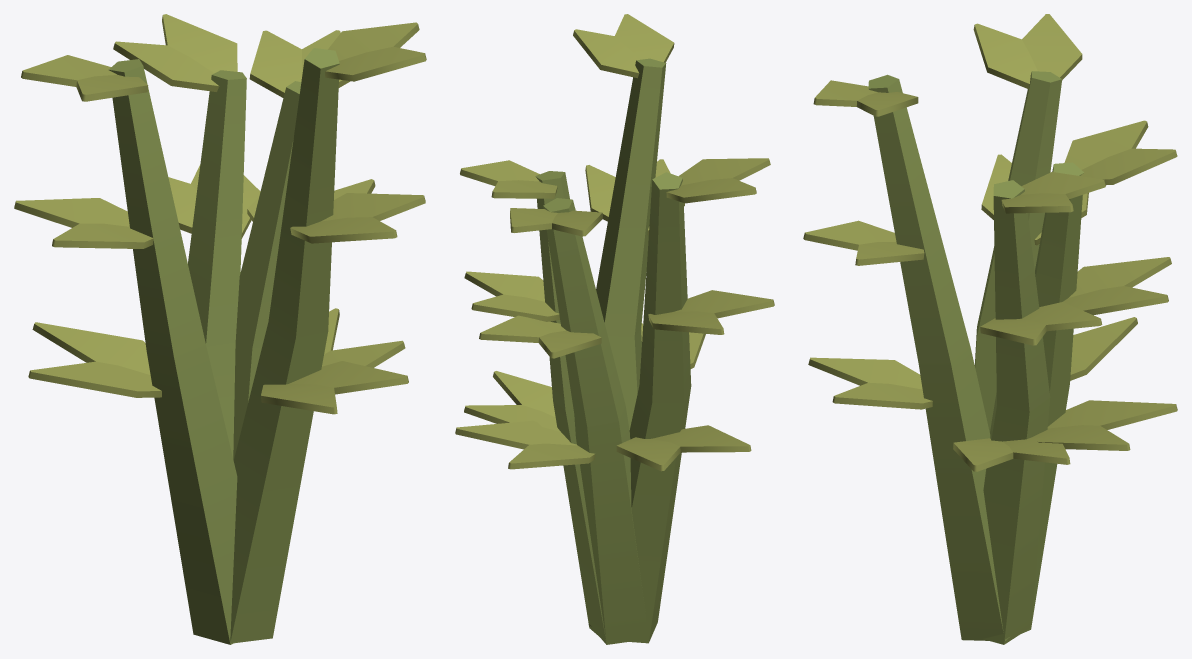
The model's file is crop_potato_sprout.glb.
3 views of the same model, side by side, from view 1: azimuth 30°, elevation 25°; view 2: azimuth 150°, elevation 25°; view 3: azimuth 270°, elevation 25° (orthographic). The views are drawn at different scales.
Visible parts, largest first — view 1: potato_sprout_stem_00, potato_sprout_leaf_00_000; view 2: potato_sprout_stem_00, potato_sprout_leaf_00_000; view 3: potato_sprout_stem_00, potato_sprout_leaf_00_000.
Boxes of the visible parts, x1,y1,x2,y2 form: potato_sprout_stem_00: [109, 48, 339, 644]; potato_sprout_leaf_00_000: [14, 14, 426, 414]; potato_sprout_stem_00: [535, 58, 691, 644]; potato_sprout_leaf_00_000: [455, 14, 774, 471]; potato_sprout_stem_00: [868, 71, 1083, 644]; potato_sprout_leaf_00_000: [803, 14, 1177, 471].
Bounding box in the file's own units: 0.1499 × 0.2587 × 0.1529.
